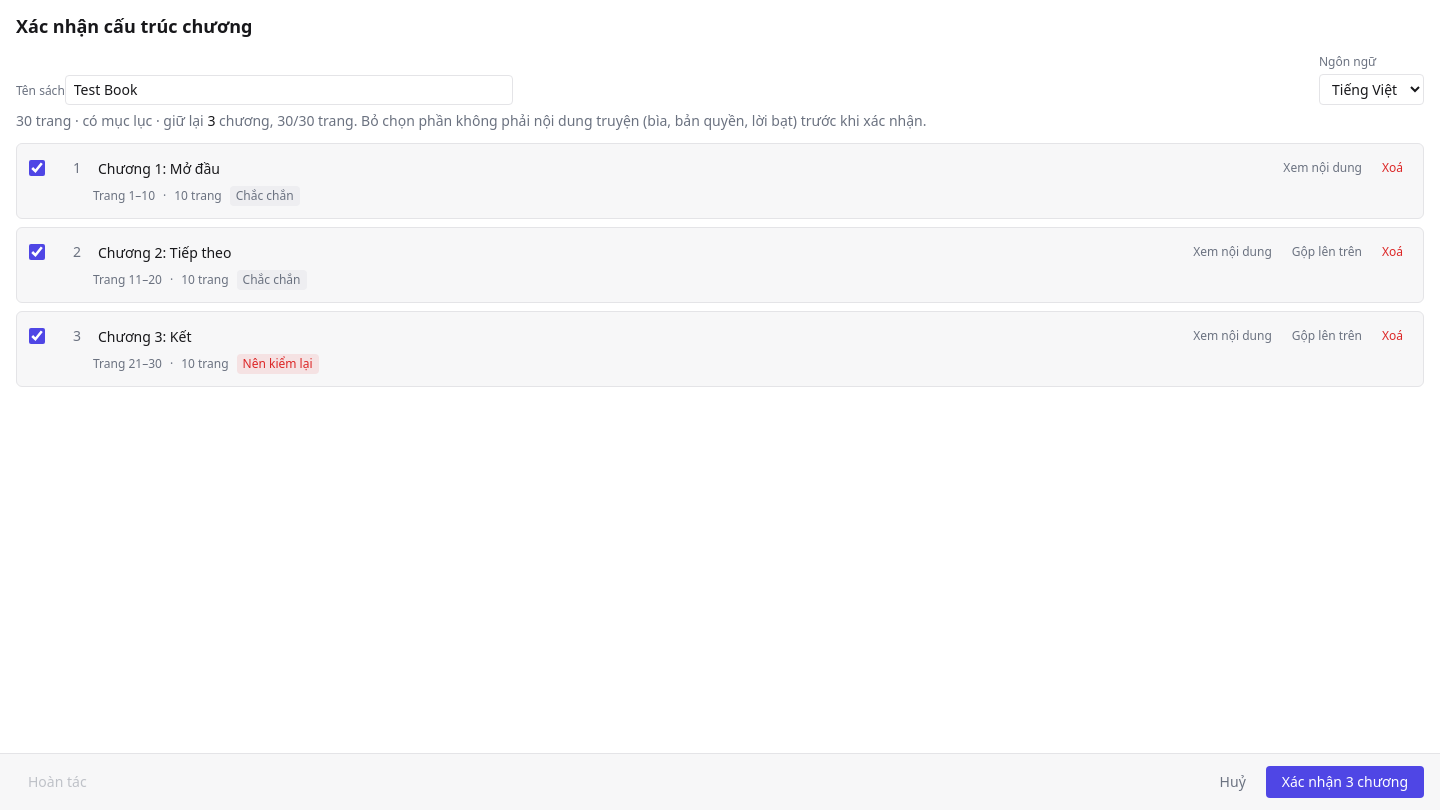
Test case: loại trừ chương › bỏ chọn thì không tính vào số chương xác nhận
The width and height of the screenshot is (1440, 810).
What coordinates should you click on to do the following:
click the checkbox named "Đưa \"Chương 2: Tiếp theo\" vào sách"
I would click on:
 (37, 252)
Its box is [29,244,45,260].
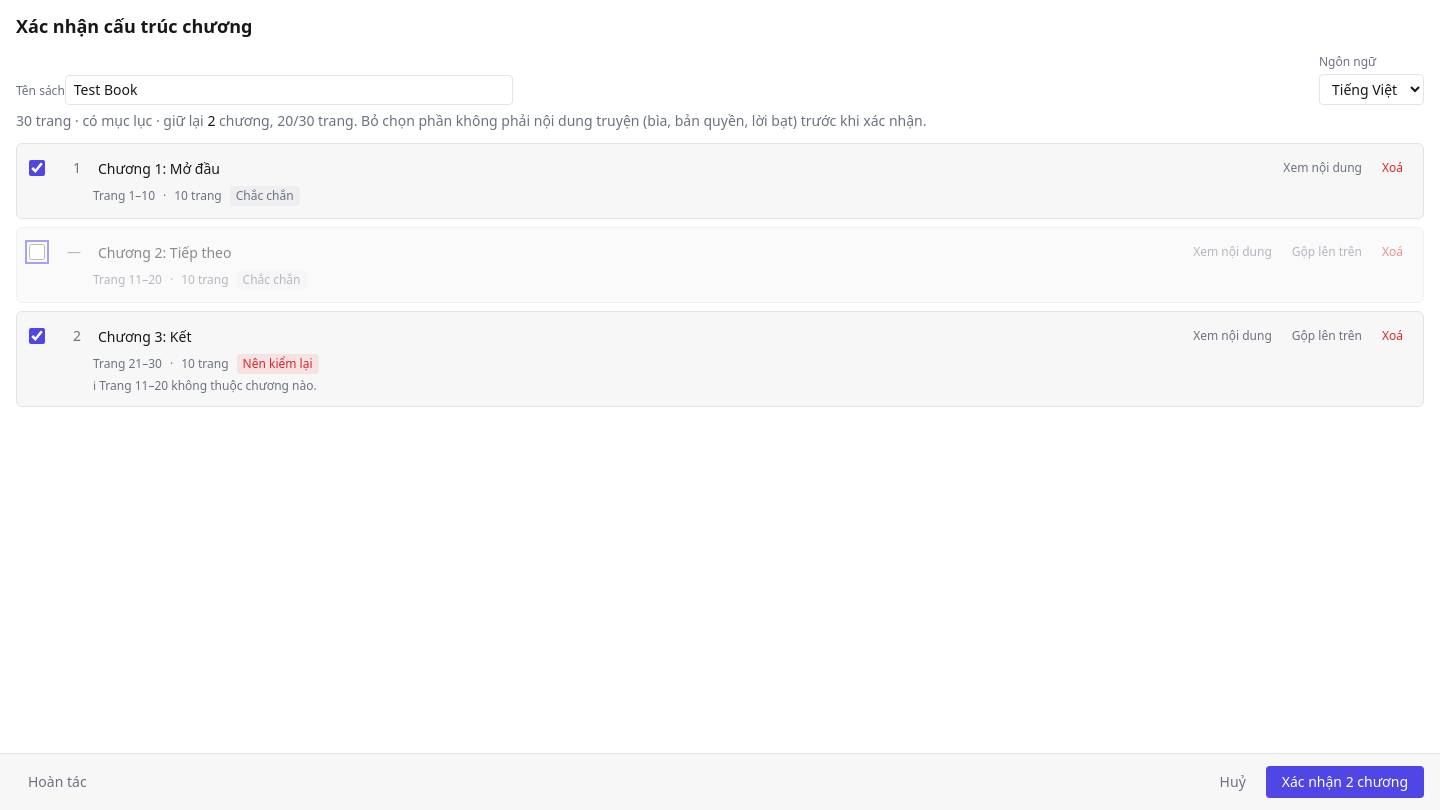
Check: the button "Xác nhận 2 chương" is shown, box [1266,766,1424,798]
